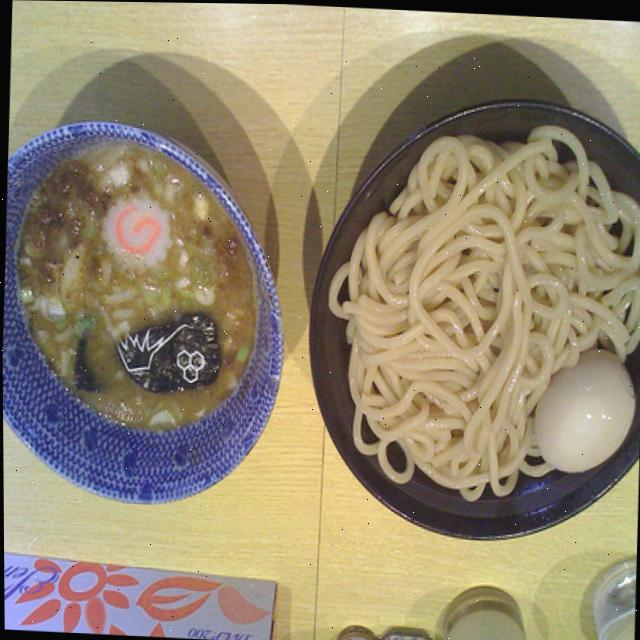面条主食: (6, 78, 640, 502)
